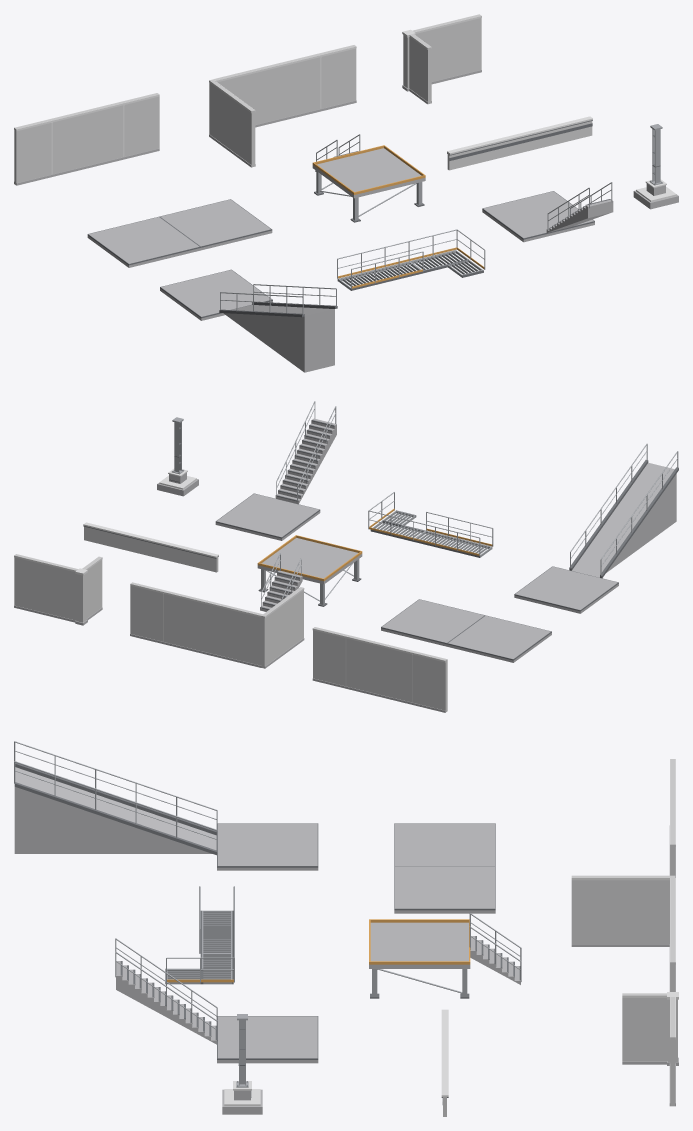
The model's file is modular-greybox-architecture-kit-connector-cases-d374dccc__22925.glb.
3 views of the same model, one above another, from view 1: azimuth 30°, elevation 25°; view 2: azimuth 150°, elevation 25°; view 3: azimuth 270°, elevation 25° (orthographic). The views are drawn at different scales.
Parts seen in each view (by area): view 1: 002-wall-corner-inner/0, 013-ramp-3m-rise/0, 000-wall-solid-4m/0, 003-wall-solid-4m/0, 001-wall-solid-4m/0, 006-floor-tile-4m/0, 007-floor-tile-4m/0, 012-floor-tile-4m/0, 008-ramp-switchback-landing/0, 016-floor-tile-4m/0, 004-wall-corner-outer/0, 005-wall-solid-2m/0 (+11 smaller); view 2: 002-wall-corner-inner/0, 013-ramp-3m-rise/0, 000-wall-solid-4m/0, 001-wall-solid-4m/0, 003-wall-solid-4m/0, 004-wall-corner-outer/0, 012-floor-tile-4m/0, 016-floor-tile-4m/0, 006-floor-tile-4m/0, 007-floor-tile-4m/0, 008-ramp-switchback-landing/0, 017-stair-straight-3m/0 (+12 smaller); view 3: 013-ramp-3m-rise/0, 002-wall-corner-inner/0, 007-floor-tile-4m/0, 012-floor-tile-4m/0, 008-ramp-switchback-landing/0, 016-floor-tile-4m/0, 006-floor-tile-4m/0, 004-wall-corner-outer/0, 013-ramp-3m-rise/1, 017-stair-straight-3m/0, 013-ramp-3m-rise/2, 015-catwalk-corner/0 (+9 smaller).
Part boxes in pixels (bbox=[...]): 002-wall-corner-inner/0: bbox=[209, 62, 284, 167]; 013-ramp-3m-rise/0: bbox=[223, 305, 334, 372]; 000-wall-solid-4m/0: bbox=[14, 110, 87, 184]; 003-wall-solid-4m/0: bbox=[283, 45, 356, 117]; 001-wall-solid-4m/0: bbox=[86, 93, 159, 165]; 006-floor-tile-4m/0: bbox=[87, 217, 200, 267]; 007-floor-tile-4m/0: bbox=[160, 199, 272, 250]; 012-floor-tile-4m/0: bbox=[160, 270, 272, 320]; 008-ramp-switchback-landing/0: bbox=[312, 148, 425, 198]; 016-floor-tile-4m/0: bbox=[482, 191, 594, 242]; 004-wall-corner-outer/0: bbox=[403, 23, 445, 104]; 005-wall-solid-2m/0: bbox=[444, 14, 481, 78]; 002-wall-corner-inner/0: bbox=[196, 587, 303, 668]; 013-ramp-3m-rise/0: bbox=[572, 463, 676, 577]; 000-wall-solid-4m/0: bbox=[379, 643, 447, 712]; 001-wall-solid-4m/0: bbox=[313, 627, 380, 694]; 003-wall-solid-4m/0: bbox=[130, 582, 198, 649]; 004-wall-corner-outer/0: bbox=[47, 556, 102, 622]; 012-floor-tile-4m/0: bbox=[514, 566, 618, 613]; 016-floor-tile-4m/0: bbox=[215, 493, 320, 540]; 006-floor-tile-4m/0: bbox=[447, 615, 551, 662]; 007-floor-tile-4m/0: bbox=[381, 599, 484, 646]; 008-ramp-switchback-landing/0: bbox=[257, 538, 362, 584]; 017-stair-straight-3m/0: bbox=[275, 418, 336, 504]; 013-ramp-3m-rise/0: bbox=[14, 767, 216, 853]; 002-wall-corner-inner/0: bbox=[571, 875, 675, 943]; 007-floor-tile-4m/0: bbox=[394, 866, 495, 913]; 012-floor-tile-4m/0: bbox=[217, 823, 318, 870]; 008-ramp-switchback-landing/0: bbox=[369, 922, 470, 968]; 016-floor-tile-4m/0: bbox=[217, 1016, 318, 1063]; 006-floor-tile-4m/0: bbox=[395, 823, 494, 865]; 004-wall-corner-outer/0: bbox=[622, 993, 677, 1062]; 013-ramp-3m-rise/1: bbox=[14, 762, 216, 855]; 017-stair-straight-3m/0: bbox=[116, 961, 216, 1044]; 013-ramp-3m-rise/2: bbox=[14, 741, 217, 852]; 015-catwalk-corner/0: bbox=[166, 929, 234, 984].
Bounding box in the file's own units: 27 × 4.28 × 26.26.
